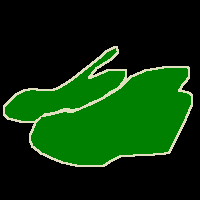shoe: (30, 66, 192, 166), (4, 46, 126, 122)
